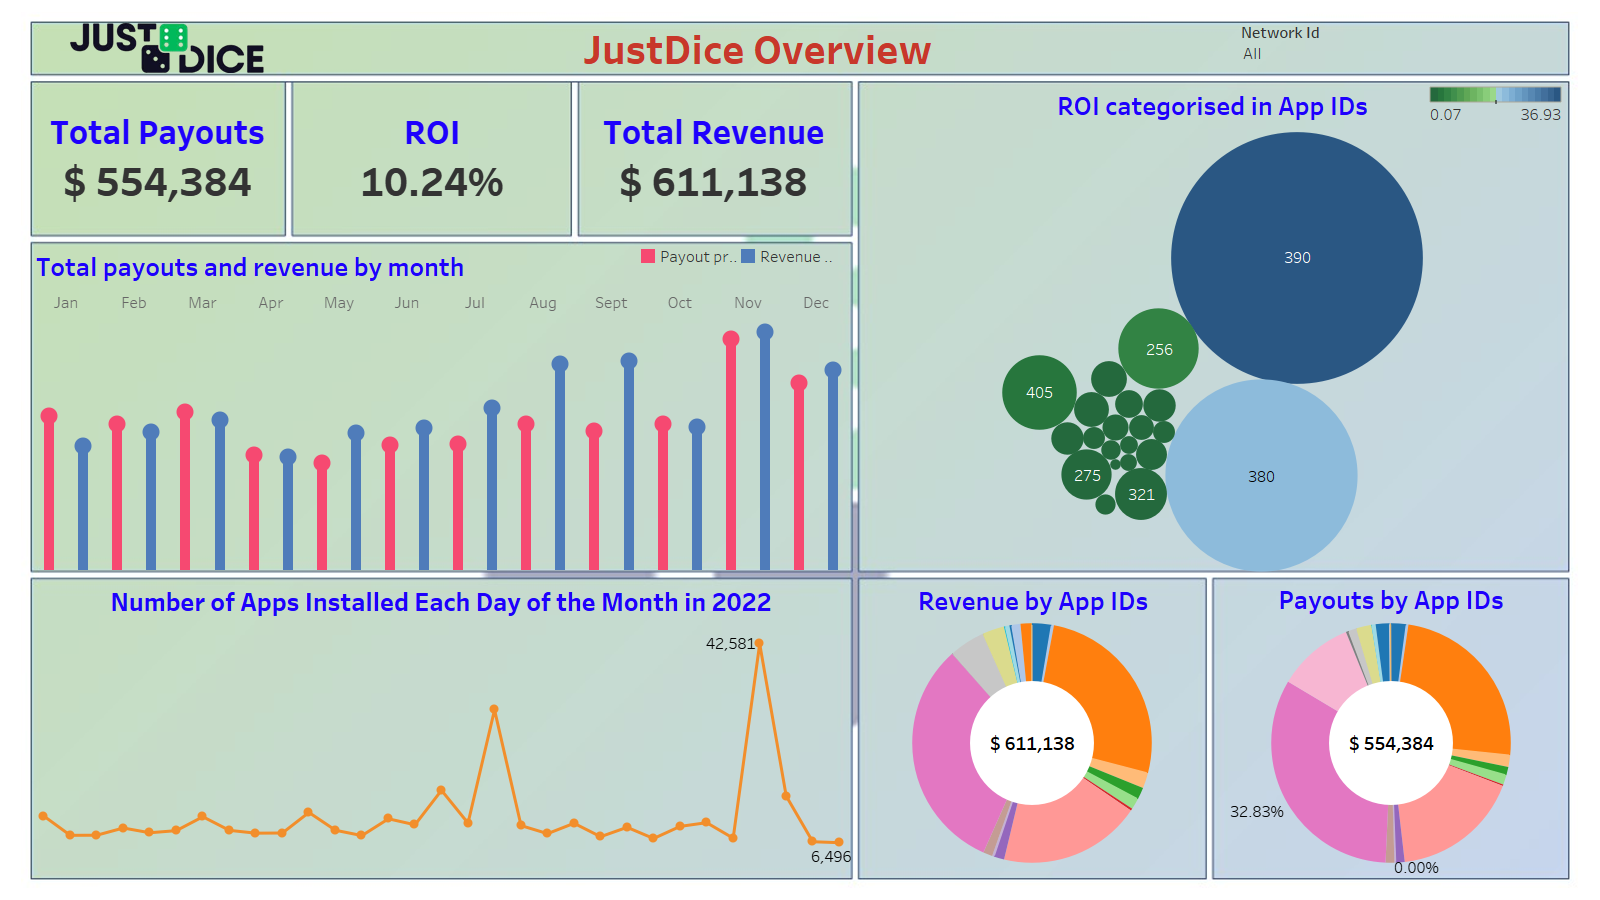

This screenshot's page, from the dashboard's own definition file:
{"tool":"tableau","page":{"name":"Dashboard 1","canvas":[1600,900],"ordinal":0},"visuals":[{"type":"image","param":"C:/Users/rajashekar/Desktop/JustDice.jpg","box":[8,8,1584,884]},{"type":"text","box":[399,21,717,54]},{"type":"filter","title":"Total Payouts","param":"[federated.02x981q017ldtp1bifp5m1wc7i4g].[none:network_id:ok]","box":[1241,21,211,58]},{"type":"image","param":"C:/Users/rajashekar/Downloads/download-removebg-preview.png","box":[31,22,273,51]},{"type":"worksheet","title":"ROI","mark":"Text","box":[293,81,279,154]},{"type":"worksheet","title":"Total Revenue","mark":"Text","box":[578,82,272,153]},{"type":"worksheet","title":"ROI categorised in App IDs","mark":"Circle","box":[858,82,709,490]},{"type":"worksheet","title":"Total Payouts","mark":"Text","box":[31,83,254,151]},{"type":"legend","title":"ROI categorised in App IDs","param":"[federated.02x981q017ldtp1bifp5m1wc7i4g].[usr:Calculation_610519236638687240:qk]","box":[1426,83,140,88]},{"type":"worksheet","title":"Total payouts and revenue by month","mark":"Bar","cols":["payout_date"],"box":[32,243,818,327]},{"type":"legend","title":"Total payouts and revenue by month","param":"[federated.02x981q017ldtp1bifp5m1wc7i4g].[:Measure Names]","box":[638,246,209,38]},{"type":"worksheet","title":"Number of Apps Installed Each Day of the Month in 2022","mark":"Automatic","rows":["install_id","install_id"],"cols":["install_date (install_revenue.csv)"],"box":[30,578,822,300]},{"type":"text","box":[1215,579,352,39]},{"type":"text","box":[860,580,346,39]},{"type":"worksheet","title":"Payouts categorised in App IDs","mark":"Pie","rows":["Calculation_610519235360448518","Calculation_610519235360448518"],"box":[1213,607,356,272]},{"type":"worksheet","title":"Revenue categorised in App IDs","mark":"Pie","rows":["Calculation_610519235360448518","Calculation_610519235360448518"],"box":[858,608,348,270]}]}

Visuals, with their boxes in screenshot pixels (x1, y1, x2, y2), scaled from the page's 1600x900 canvas onto the 1600x900 screenshot:
image: Rect(8, 8, 1592, 892)
text: Rect(399, 21, 1116, 75)
"Total Payouts" filter: Rect(1241, 21, 1452, 79)
image: Rect(31, 22, 304, 73)
"ROI" worksheet (Text marks): Rect(293, 81, 572, 235)
"Total Revenue" worksheet (Text marks): Rect(578, 82, 850, 235)
"ROI categorised in App IDs" worksheet (Circle marks): Rect(858, 82, 1567, 572)
"Total Payouts" worksheet (Text marks): Rect(31, 83, 285, 234)
"ROI categorised in App IDs" legend: Rect(1426, 83, 1566, 171)
"Total payouts and revenue by month" worksheet (Bar marks): Rect(32, 243, 850, 570)
"Total payouts and revenue by month" legend: Rect(638, 246, 847, 284)
"Number of Apps Installed Each Day of the Month in 2022" worksheet: Rect(30, 578, 852, 878)
text: Rect(1215, 579, 1567, 618)
text: Rect(860, 580, 1206, 619)
"Payouts categorised in App IDs" worksheet (Pie marks): Rect(1213, 607, 1569, 879)
"Revenue categorised in App IDs" worksheet (Pie marks): Rect(858, 608, 1206, 878)
